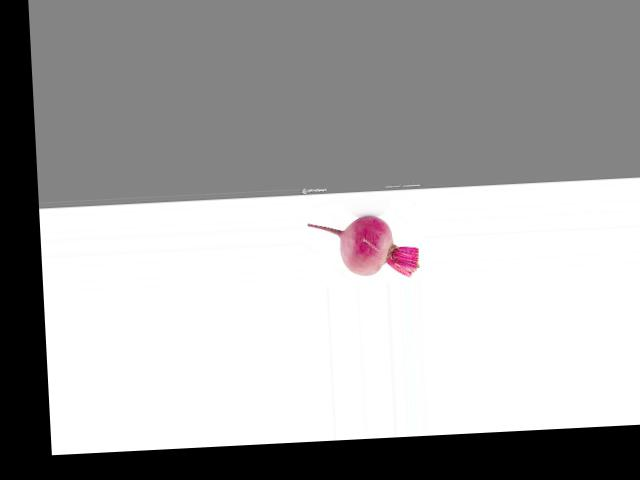beet: (307, 213, 420, 281)
